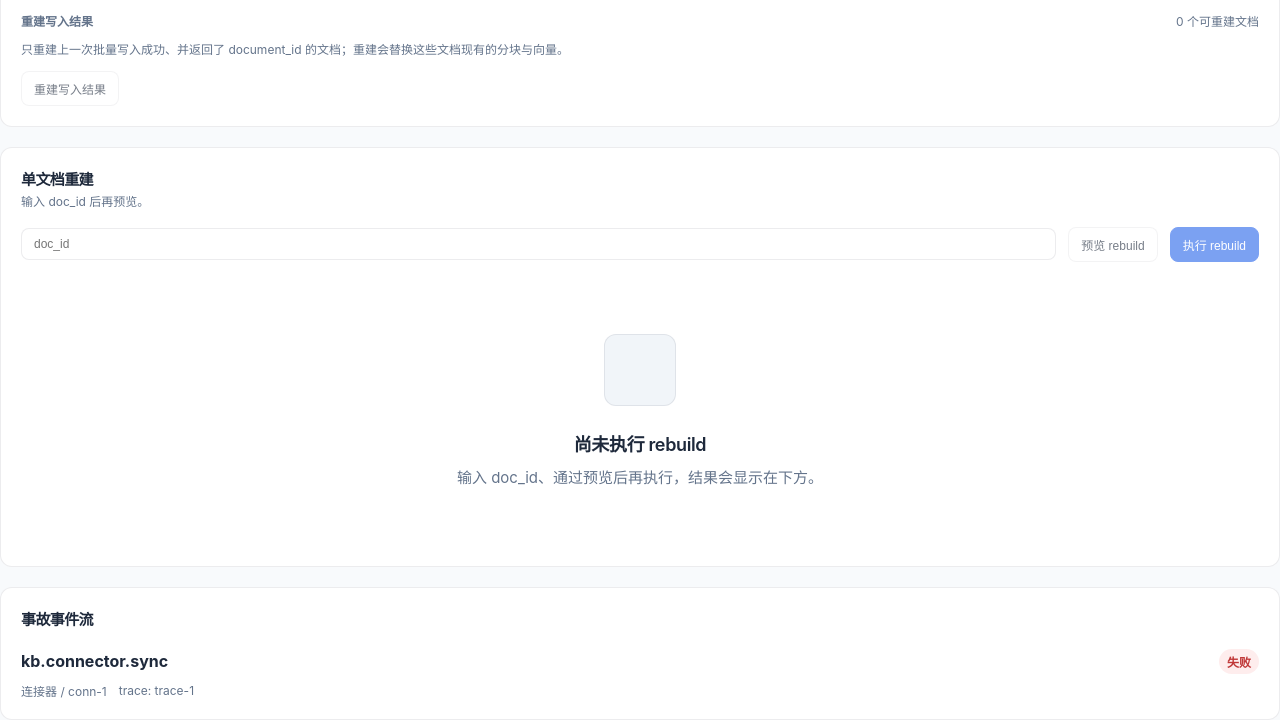
KBOperationsView › requires a matching rebuild dry-run signature before rebuilding one document
(page scrolled)
Expected: the button with test id "kb-rebuild-button" is disabled, [1170, 226, 1259, 262]
Step 1. Type "doc-1" into the field with test id "kb-rebuild-doc-input" → (539, 244), box [21, 228, 1056, 260]
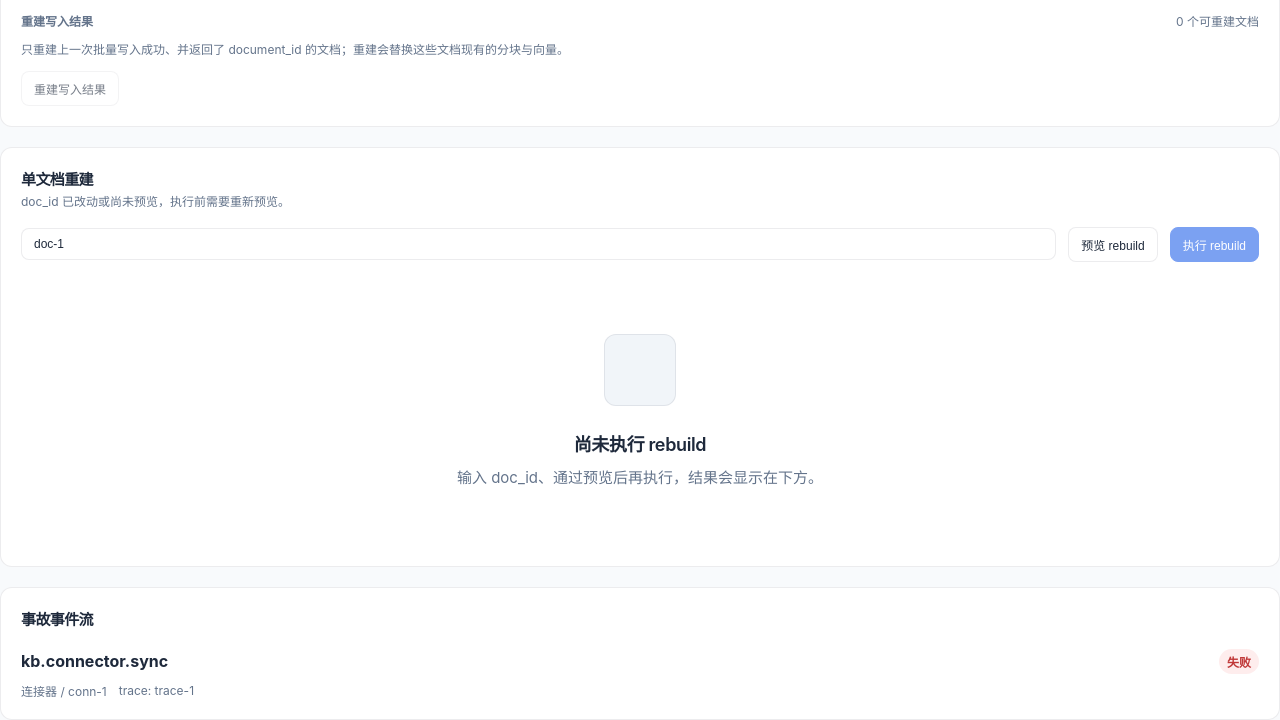
Expected: the button with test id "kb-rebuild-button" is disabled, [1170, 226, 1259, 262]
Step 2. Click the button with test id "kb-rebuild-dry-run-button" → (1113, 244), box [1068, 226, 1158, 262]
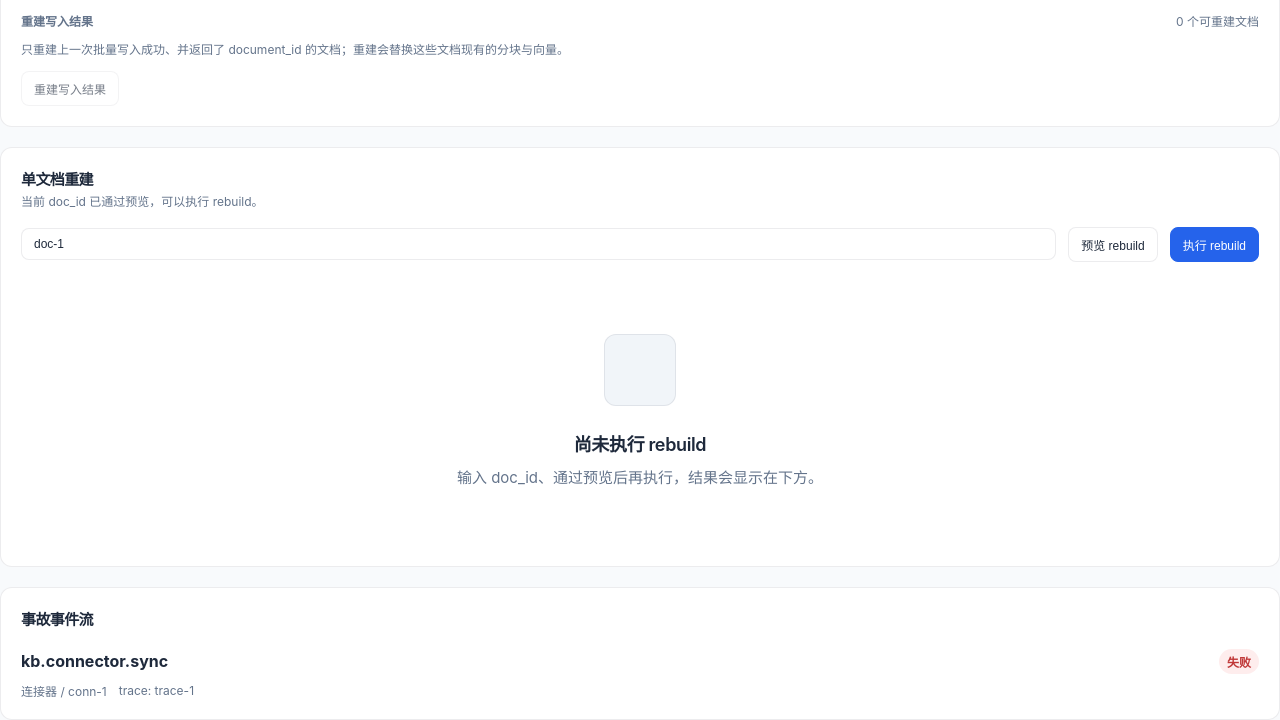
Expected: the button with test id "kb-rebuild-button" is enabled, [1170, 226, 1259, 262]
Step 3. Replace the text in the field with test id "kb-rebuild-doc-input" with "doc-2" → (539, 244), box [21, 228, 1056, 260]
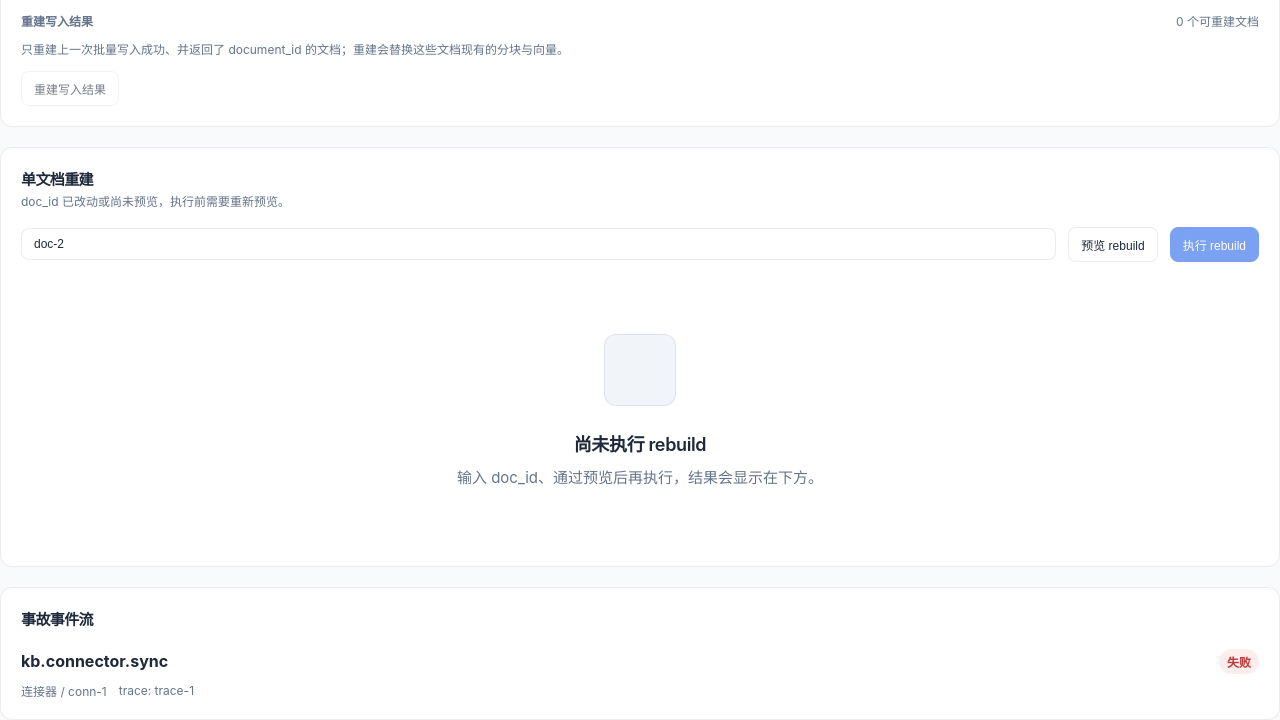
Expected: the button with test id "kb-rebuild-button" is disabled, [1170, 226, 1259, 262]
Step 4. Click the button with test id "kb-rebuild-dry-run-button" → (1113, 244), box [1068, 226, 1158, 262]
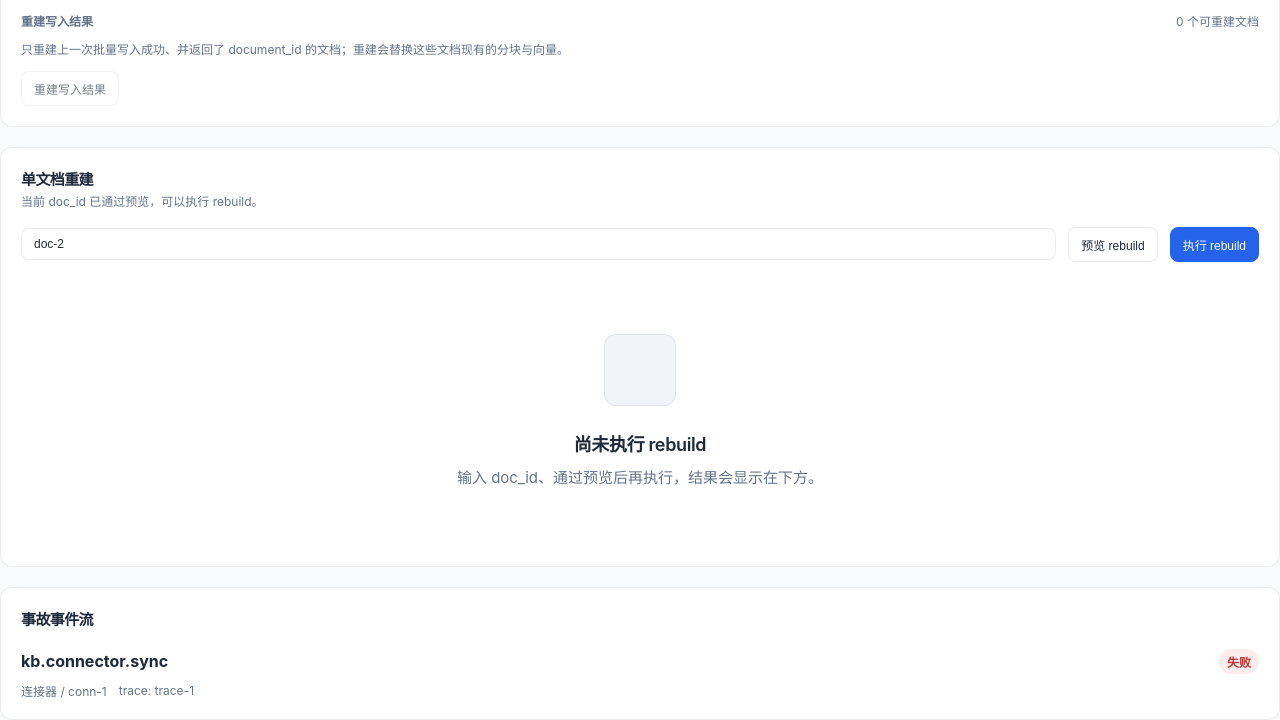
Step 5. Click the button with test id "kb-rebuild-button" → (1214, 244), box [1170, 226, 1259, 262]
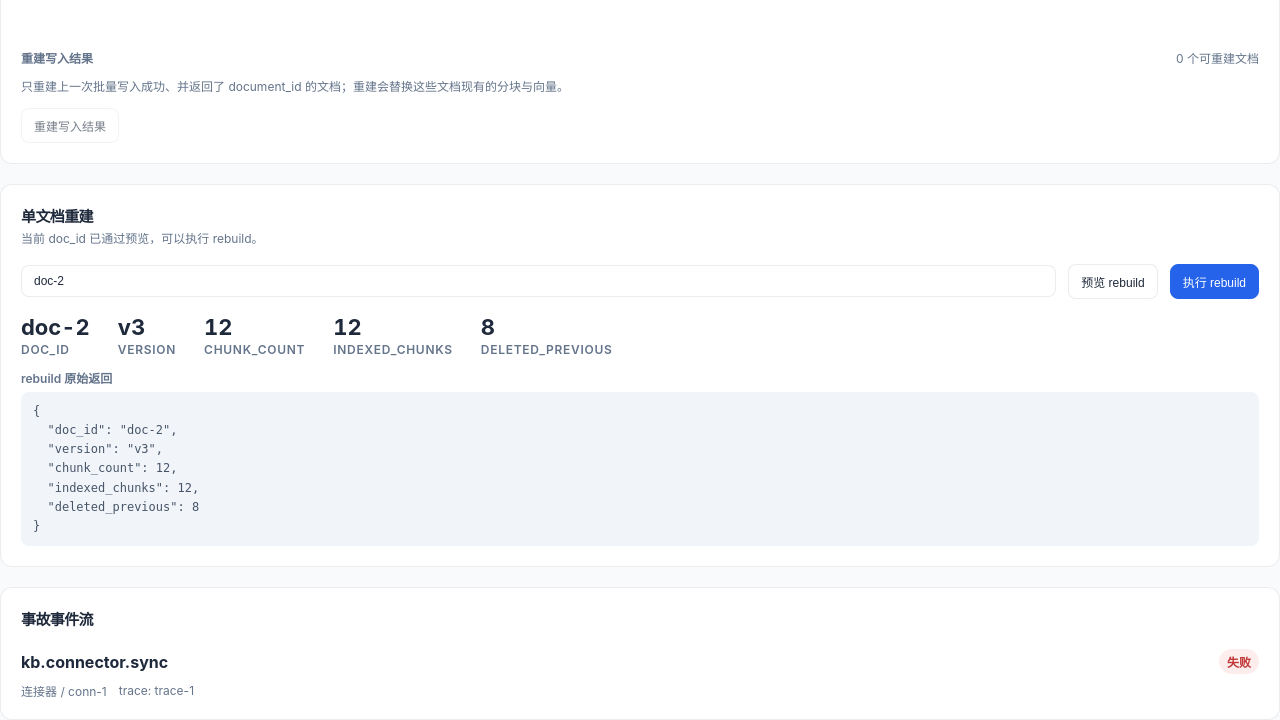
Expected: the element with test id "kb-rebuild-summary" shows "doc-2", [21, 314, 90, 340]
Expected: the element with test id "kb-rebuild-summary" shows "v3", [118, 314, 145, 340]
Expected: the element with test id "kb-rebuild-summary" shows "12", [204, 314, 233, 340]
